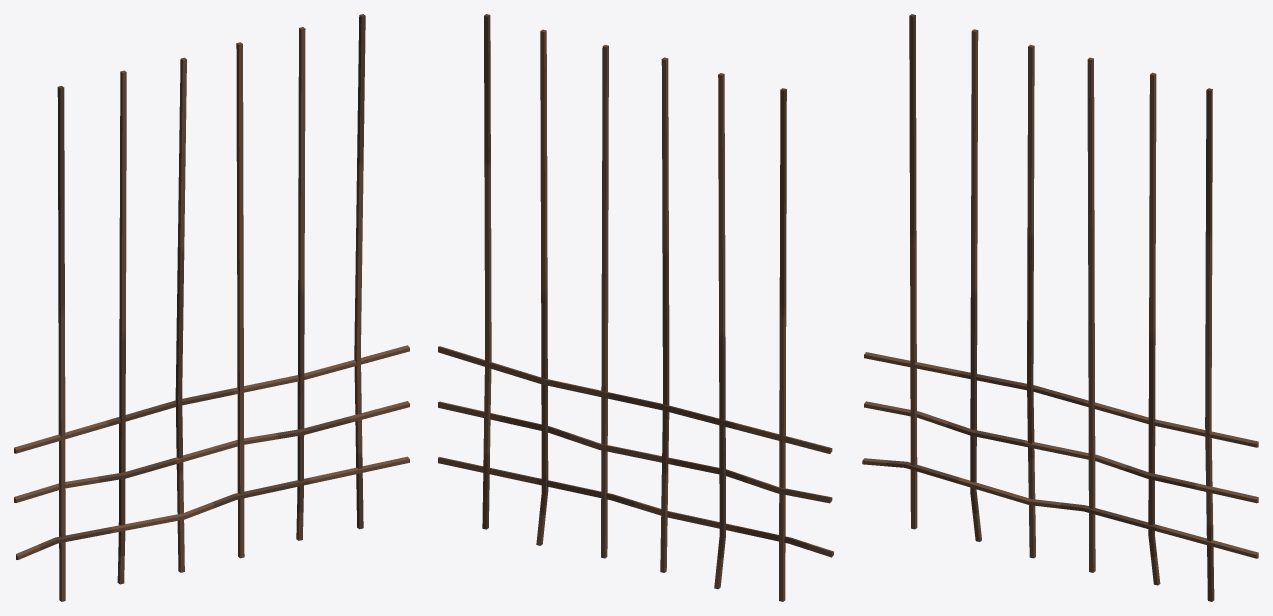
File: SM_Bld_ConcreteRebar_Wall_01.fbx
3 views of the same model, side by side, from view 1: azimuth 30°, elevation 25°; view 2: azimuth 150°, elevation 25°; view 3: azimuth 330°, elevation 25° (orthographic).
Parts seen in each view (by area): view 1: SM_Bld_ConcreteRebar_Wall_01; view 2: SM_Bld_ConcreteRebar_Wall_01; view 3: SM_Bld_ConcreteRebar_Wall_01.
Boxes of the visible parts, x1,y1,x2,y2 form: SM_Bld_ConcreteRebar_Wall_01: (14, 14, 409, 601); SM_Bld_ConcreteRebar_Wall_01: (438, 14, 833, 601); SM_Bld_ConcreteRebar_Wall_01: (862, 14, 1258, 601).
Bounding box in the file's own units: 234 × 292 × 8.95.
